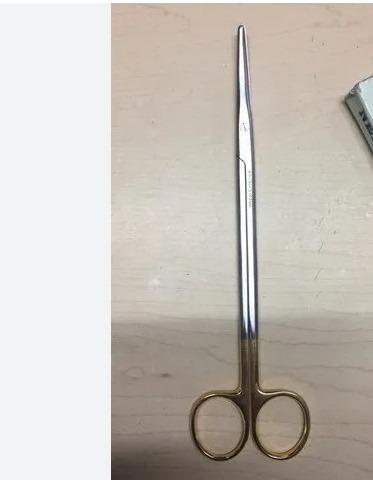Metzenbaum Sciccors: (170, 22, 316, 474)
